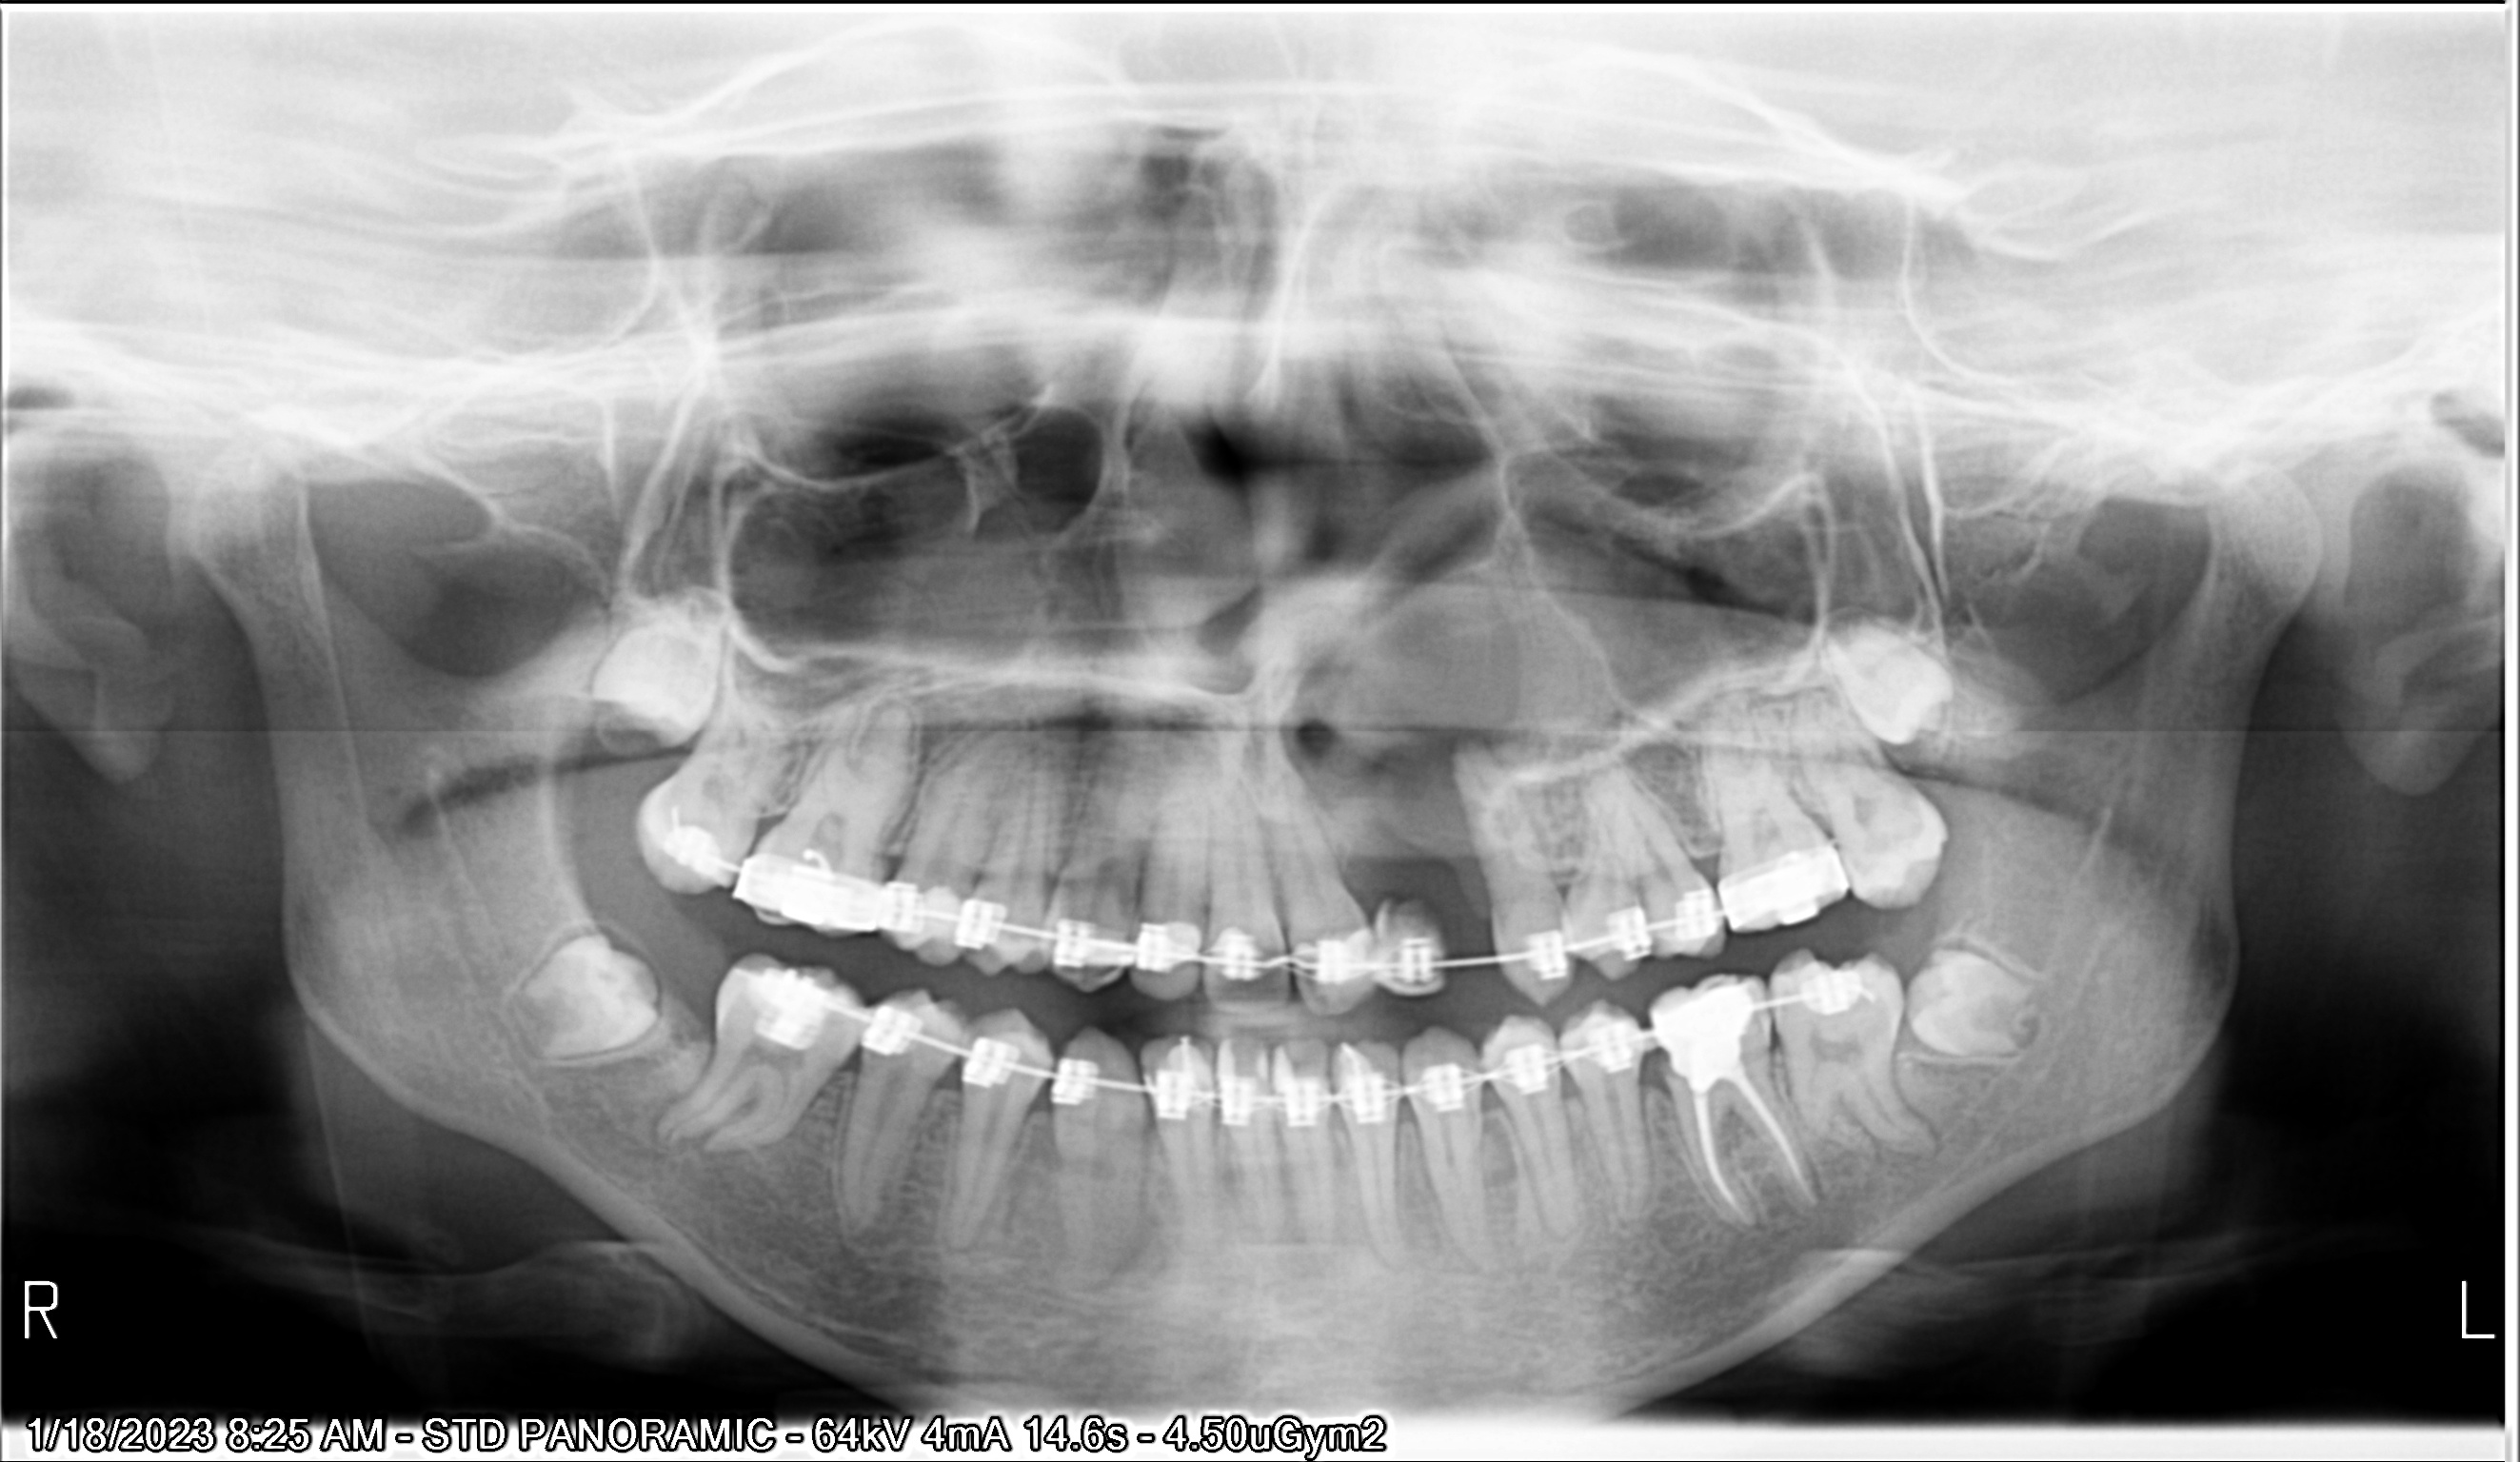END: (1669, 1070, 1845, 1250)
IMT: (1878, 914, 2087, 1107), (529, 613, 795, 764), (512, 875, 682, 1100), (1794, 592, 2000, 766)
ORD: (712, 915, 1852, 1152), (637, 795, 1897, 1008)
